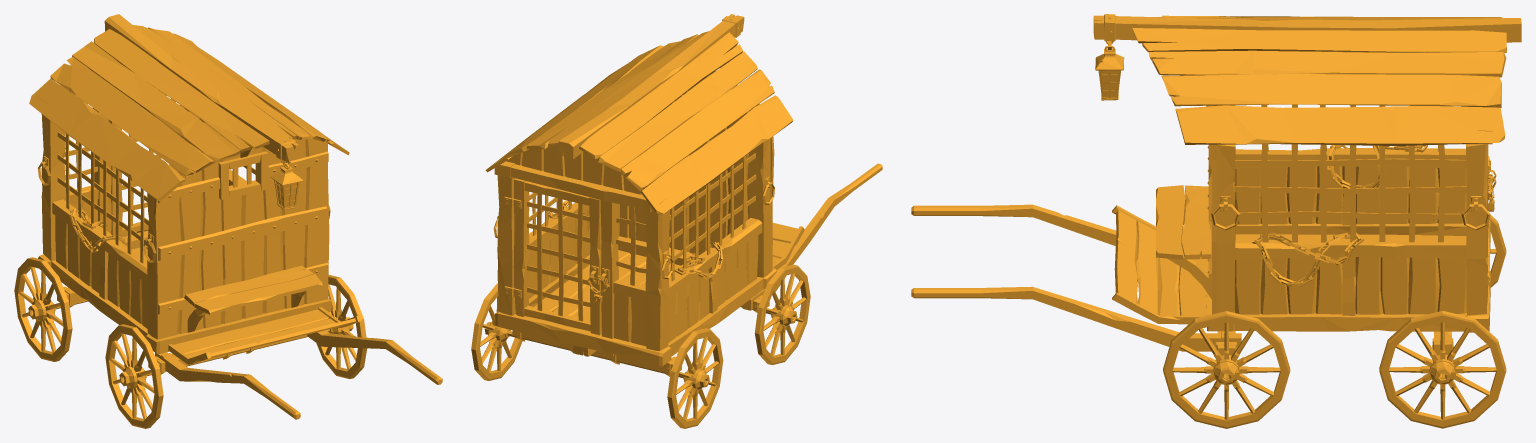
The model's file is SM_Prison_Carriage_Fantasy.fbx.
3 renders of one model, left to right at view 1: azimuth 30°, elevation 25°; view 2: azimuth 150°, elevation 25°; view 3: azimuth 270°, elevation 25°, orthographic. The views are drawn at different scales.
Visible parts, largest first — view 1: prison-carriage-base, prison-carriage-wheels-fr, prison-carriage-wheels-ba, prison-carriage-handles, prison-carriage-door; view 2: prison-carriage-base, prison-carriage-door, prison-carriage-wheels-ba, prison-carriage-wheels-fr, prison-carriage-handles; view 3: prison-carriage-base, prison-carriage-wheels-ba, prison-carriage-handles, prison-carriage-wheels-fr.
Boxes of the visible parts, x1,y1,x2,y2 form: prison-carriage-base: (29, 14, 361, 364); prison-carriage-wheels-fr: (105, 275, 367, 428); prison-carriage-wheels-ba: (14, 257, 87, 361); prison-carriage-handles: (148, 330, 442, 419); prison-carriage-door: (109, 87, 199, 240); prison-carriage-base: (485, 14, 804, 376); prison-carriage-door: (511, 178, 601, 335); prison-carriage-wheels-ba: (471, 283, 723, 428); prison-carriage-wheels-fr: (741, 264, 810, 364); prison-carriage-handles: (741, 163, 882, 312); prison-carriage-base: (1093, 14, 1521, 355); prison-carriage-wheels-ba: (1379, 215, 1506, 428); prison-carriage-handles: (911, 204, 1241, 355); prison-carriage-wheels-fr: (1163, 209, 1290, 428).
Size of the model in its own units: 2.46 by 3.04 by 4.8.
